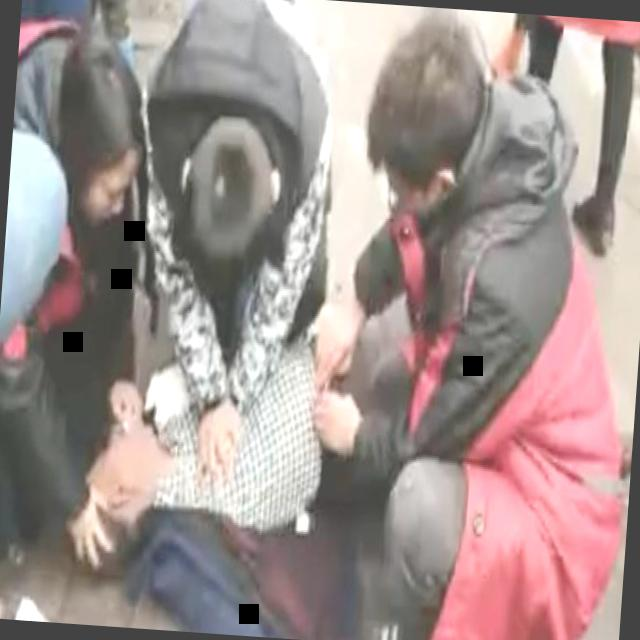Fall-Detected: (57, 256, 402, 640)
